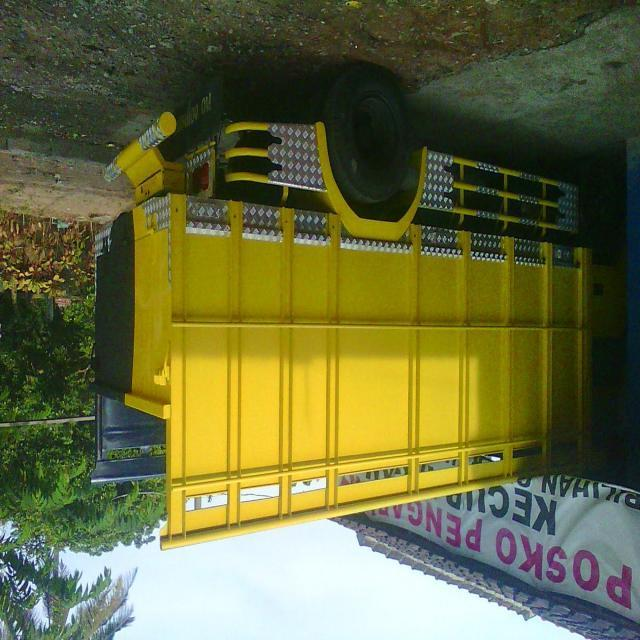truck: (92, 67, 638, 550)
